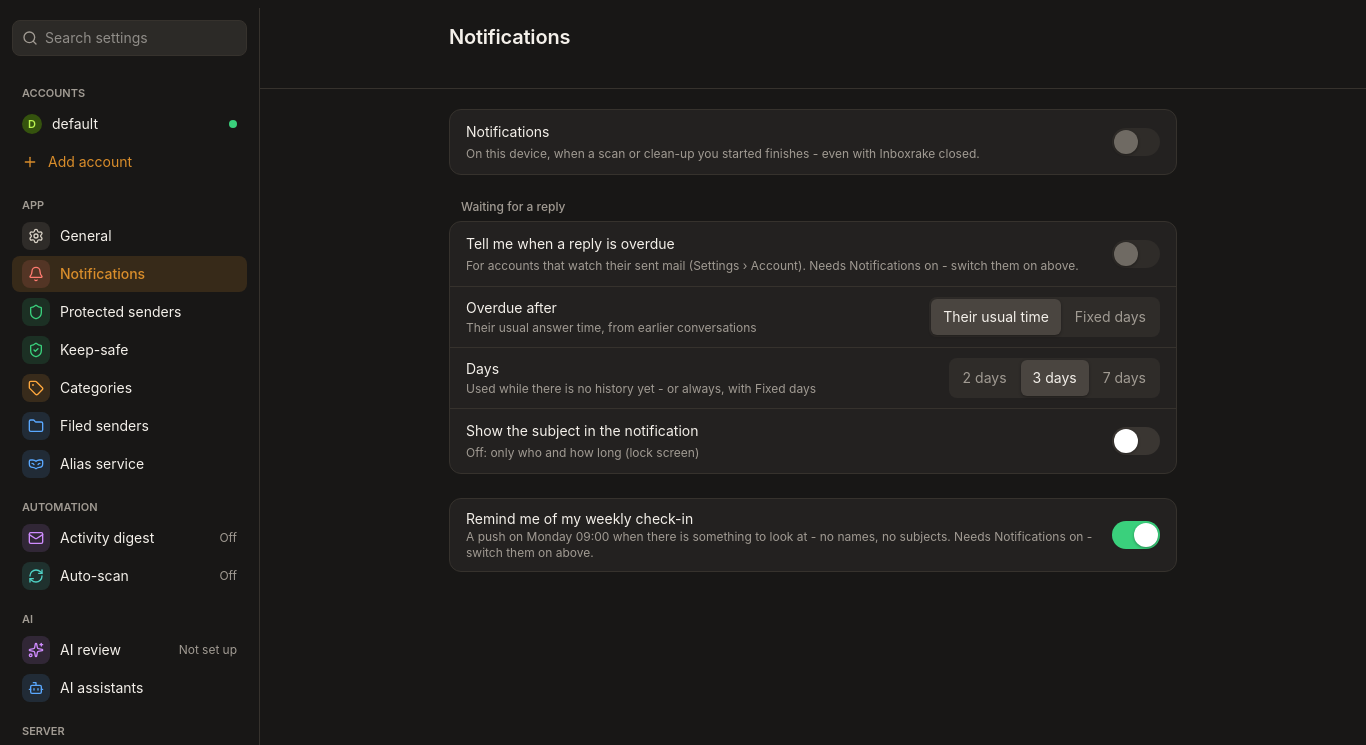
Test case: a refused change is said and the switch stays as it was
Step 1. Click the switch named "Remind me of my weekly check-in" in the row of "Remind me of my weekly check-in" → coordinates (1136, 535), box [1112,513,1160,557]
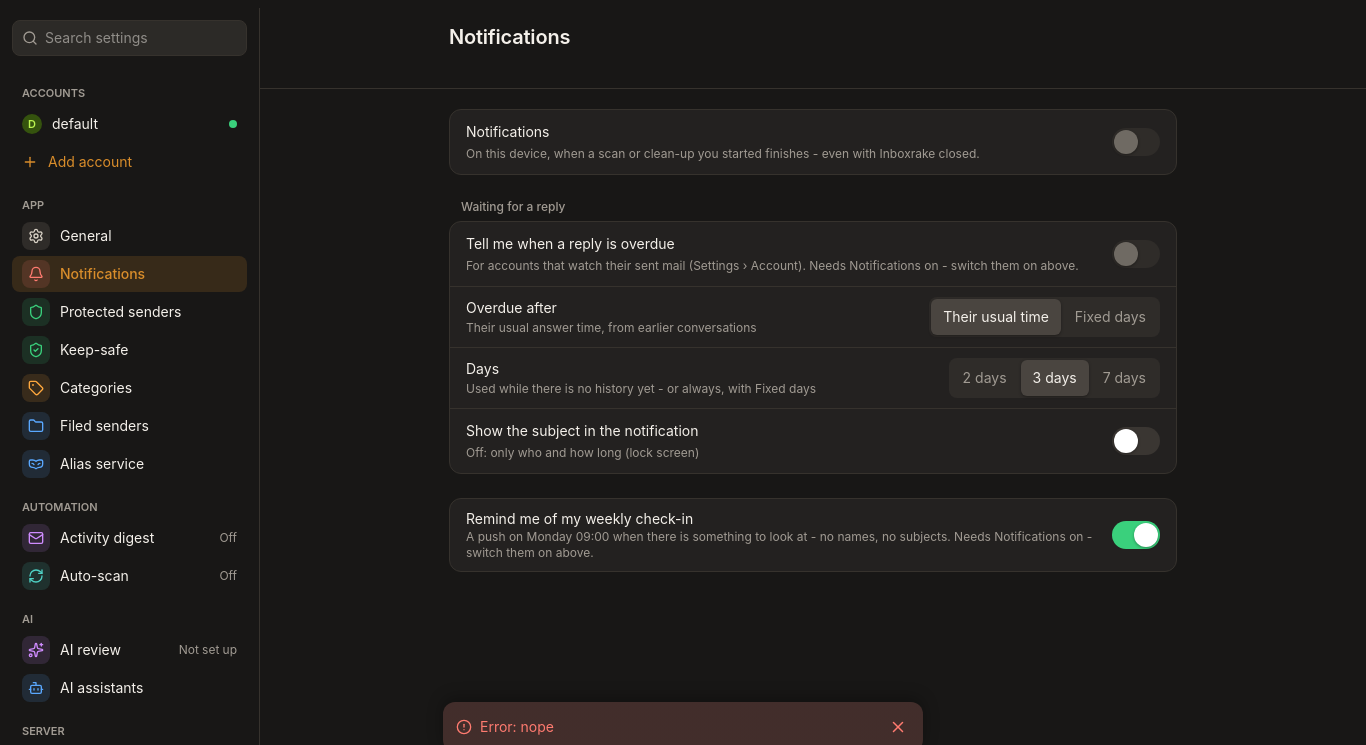
expect the text "Error: nope" is shown: met, box [480,718,554,735]
